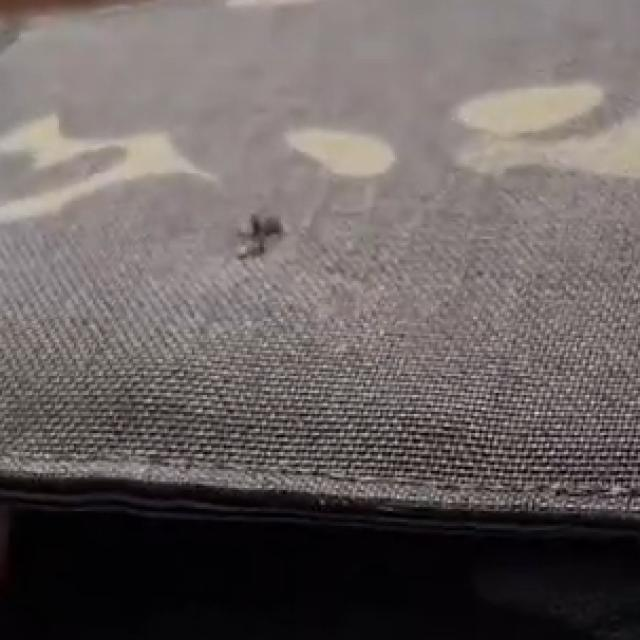bullets: (232, 209, 292, 263)
